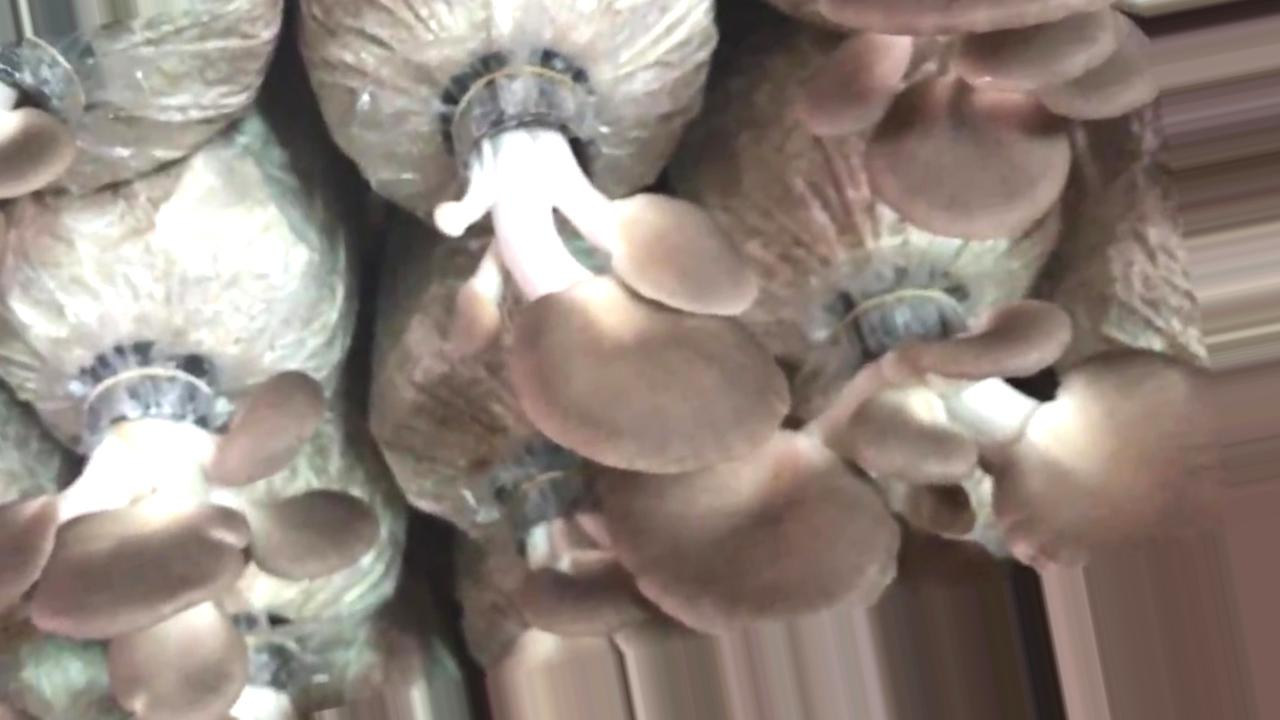nam: (599, 299, 1280, 711), (432, 49, 795, 478), (2, 343, 382, 720), (798, 1, 1164, 246), (489, 449, 661, 638), (1, 1, 96, 196)
